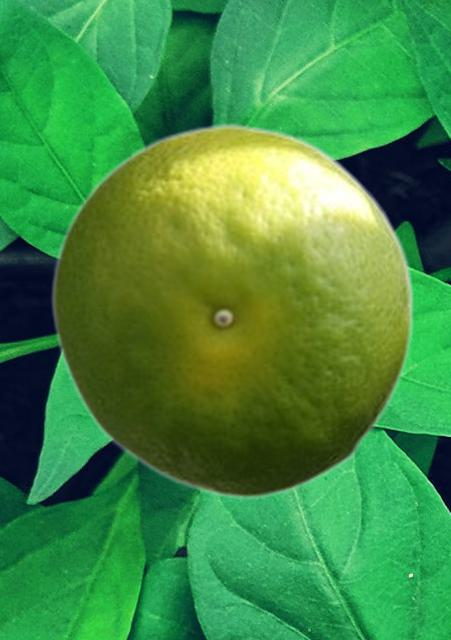dalandan: (50, 122, 413, 499)
